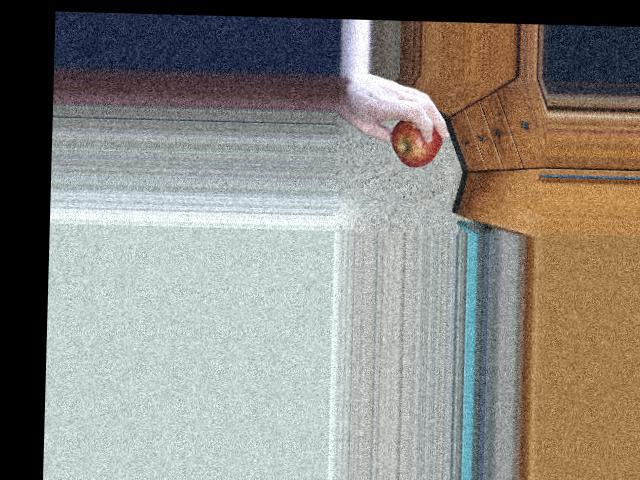apple: (387, 110, 449, 169)
